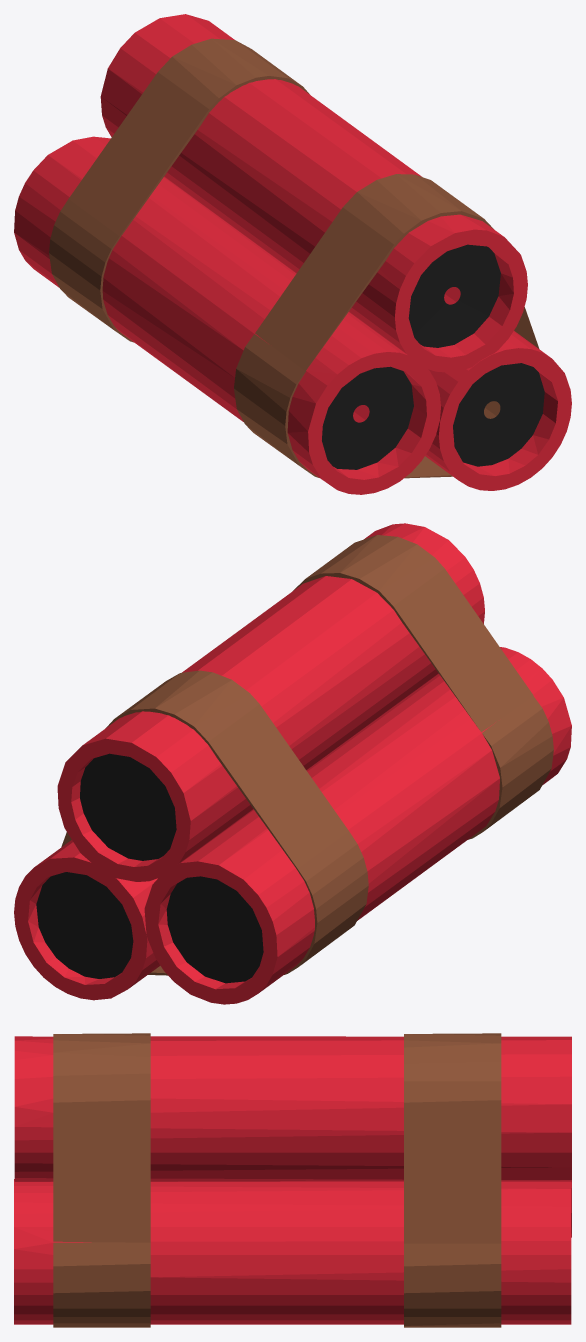
File: dynamite.fbx
3 renders of one model, top to bottom at view 1: azimuth 30°, elevation 25°; view 2: azimuth 150°, elevation 25°; view 3: azimuth 270°, elevation 25°, orthographic. The views are drawn at different scales.
Parts seen in each view (by area): view 1: Cylinder; view 2: Cylinder; view 3: Cylinder.
Boxes of the visible parts, x1,y1,x2,y2 form: Cylinder: [14, 14, 571, 494]; Cylinder: [14, 523, 571, 1004]; Cylinder: [14, 1033, 571, 1327].
Size of the model in its own units: 150 by 146 by 285.
